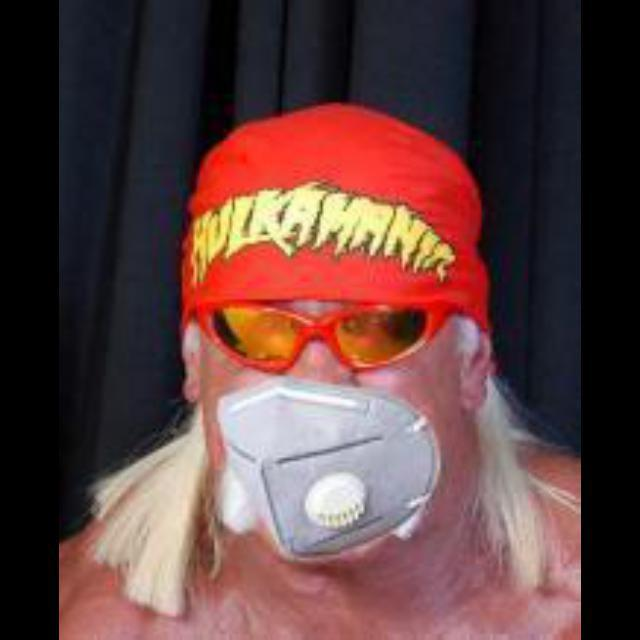suspicion: (184, 188, 516, 556)
